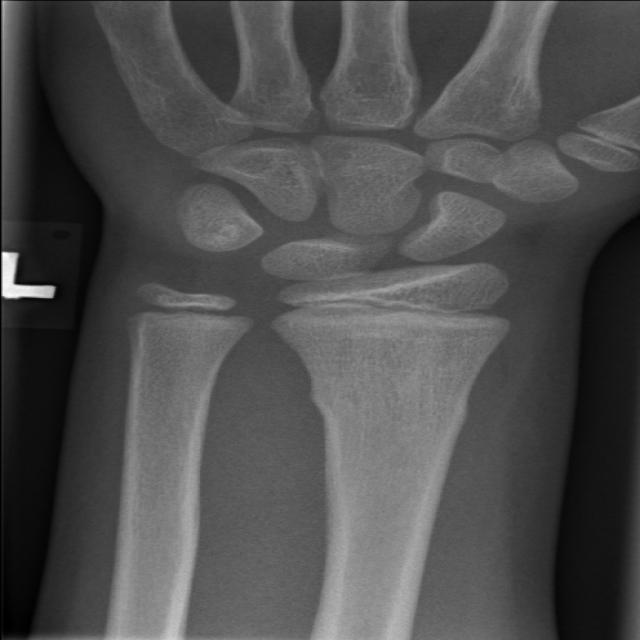radius fracture: (272, 357, 527, 485)
